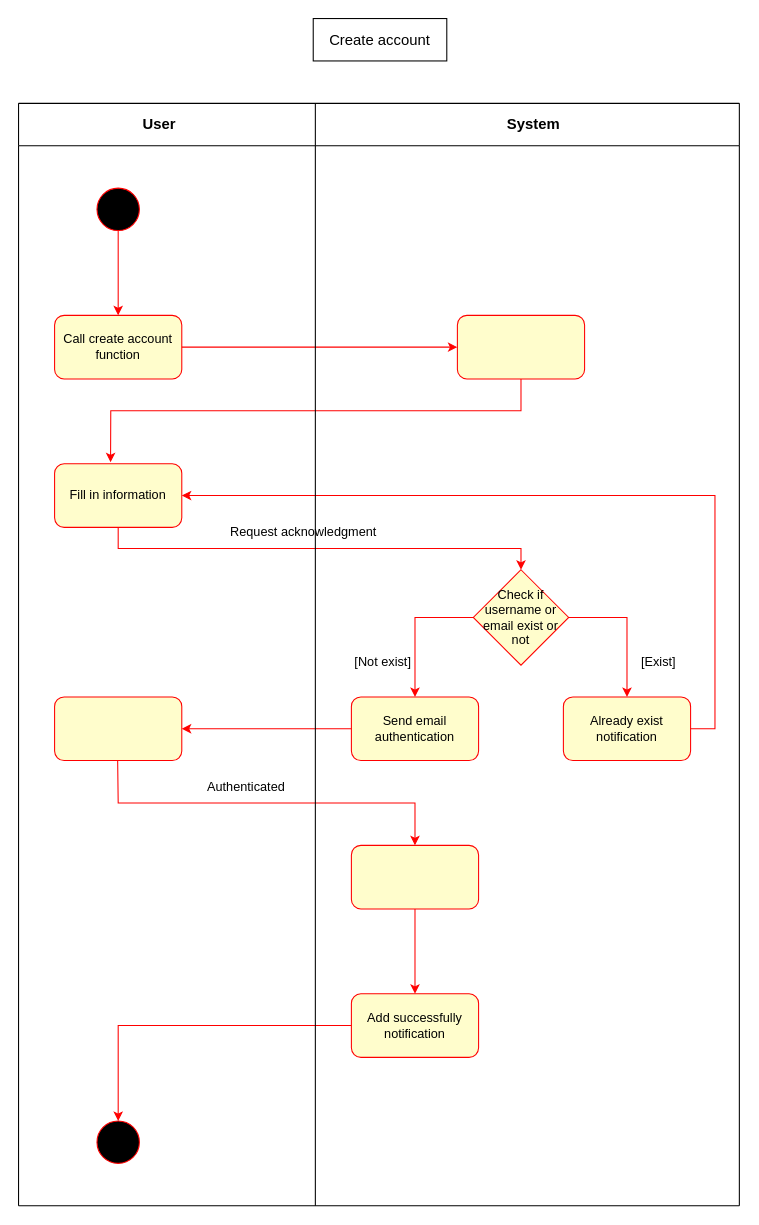
Some shapes in this 759 by 1225 pixel diagram are drawn without their labels. Each missing label, with the box of its shape:
Add account information to database: (350, 844, 479, 909)
Confirm authentication: (54, 696, 182, 761)
Request information: (456, 314, 585, 379)
